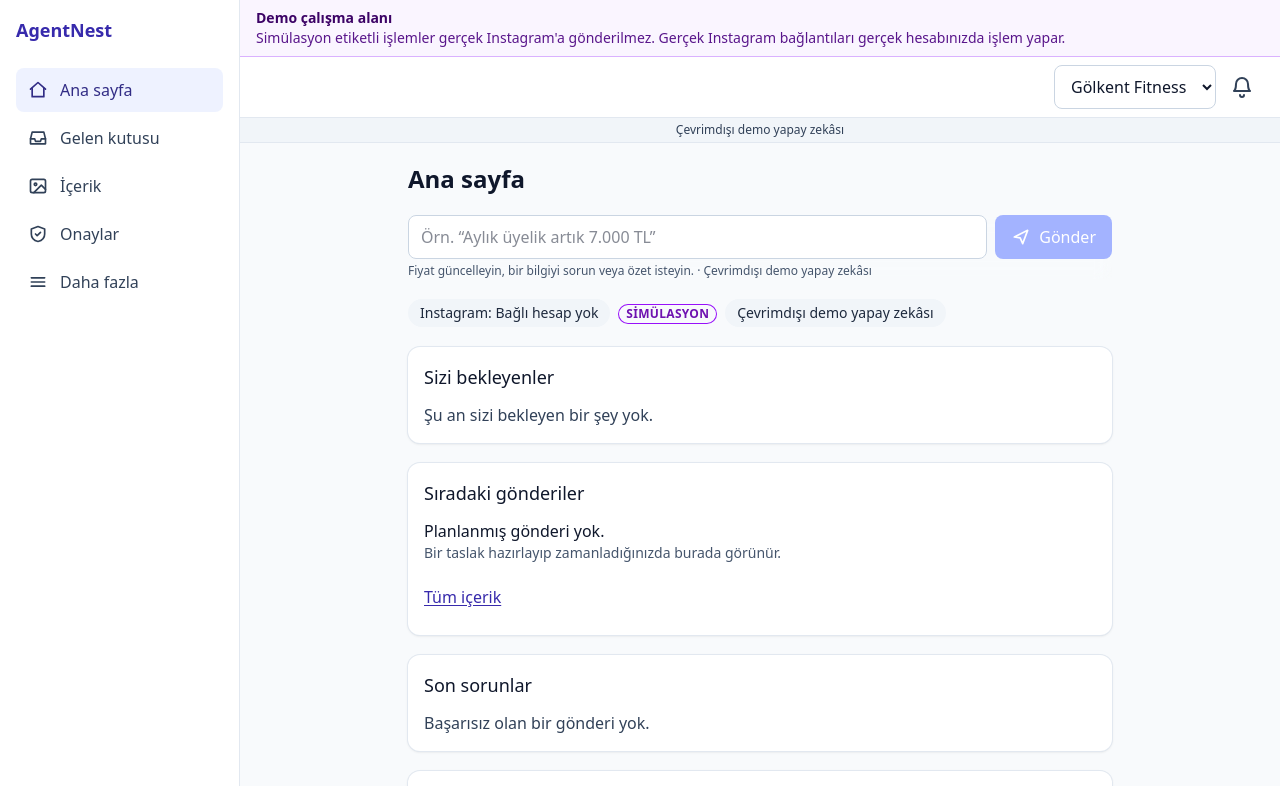
Scenario: command bar › answers 'not something I can do' with a pointer to Content, and never offers a decision
The width and height of the screenshot is (1280, 786).
Type "gönderiyi şimdi yayınla" into the field named "Komut". click: (698, 237)
box: top-left (408, 215), bottom-right (987, 259)
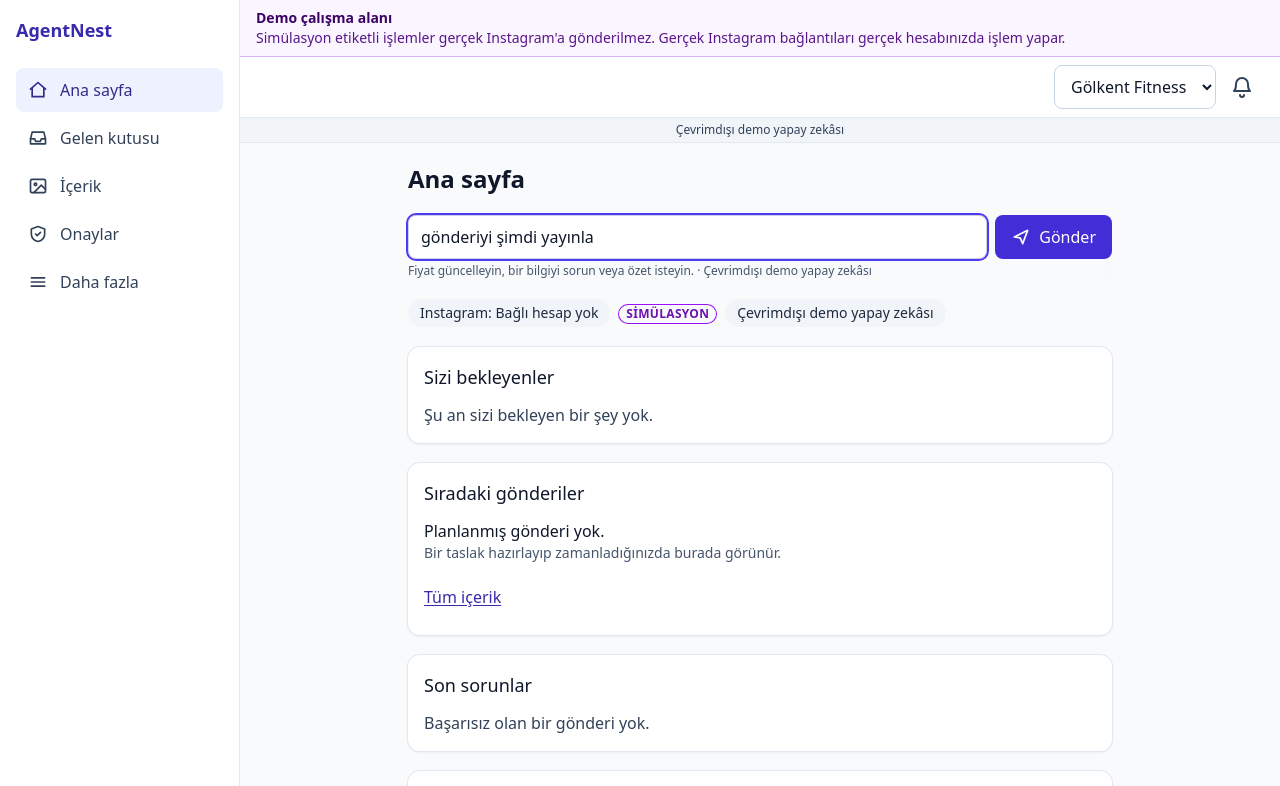
Click the button "Gönder". click: (1054, 237)
box: top-left (995, 215), bottom-right (1112, 259)
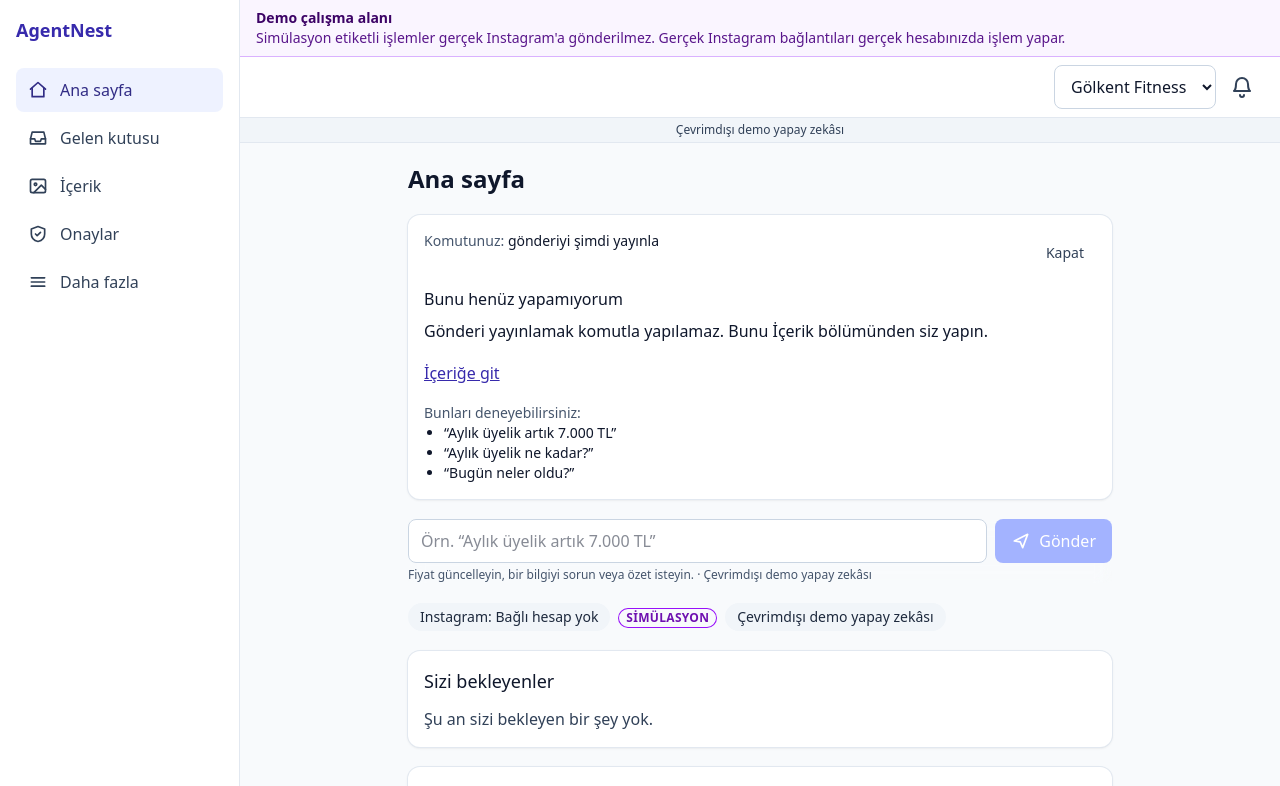
expect the element with test id "command-result" shows "Bunu henüz yapamıyorum": met, box top-left (424, 288), bottom-right (623, 310)
expect the element with test id "command-result" shows "Gönderi yayınlamak komutla yapılamaz.": met, box top-left (424, 320), bottom-right (988, 342)
expect the element with test id "command-result" shows "“Aylık üyelik artık 7.000 TL”": met, box top-left (444, 423), bottom-right (616, 442)
